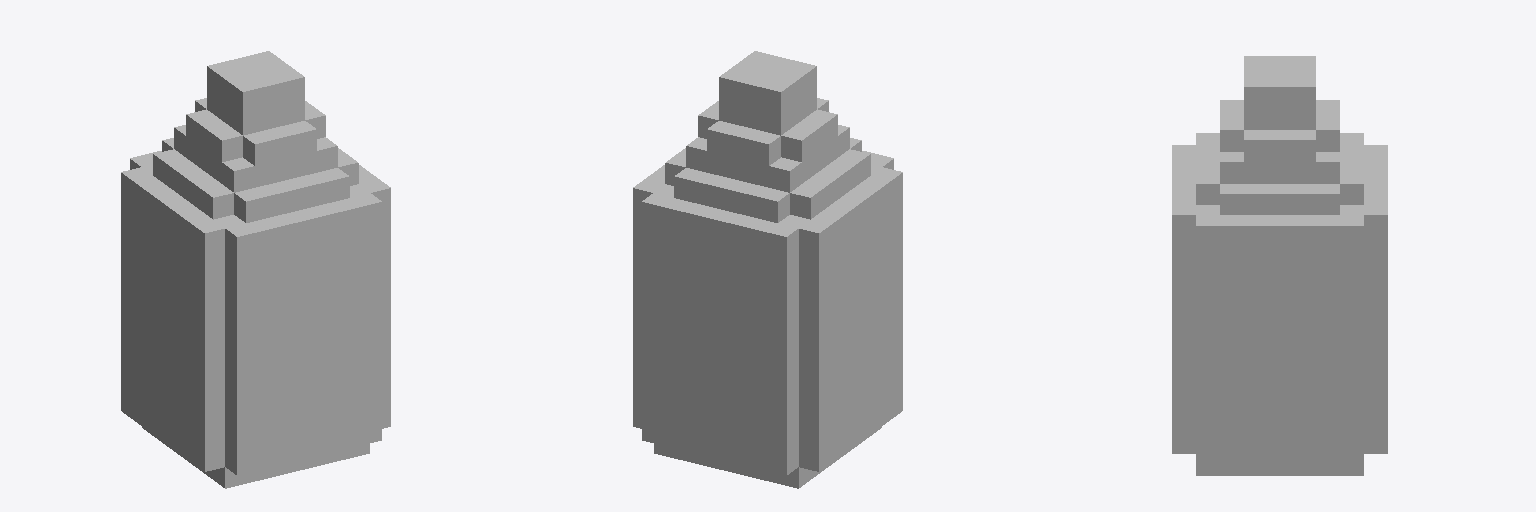
File: Bunker - Free Sample-78-Bottle_Water-8.obj
The picture shows the model from 3 angles: view 1: azimuth 30°, elevation 25°; view 2: azimuth 150°, elevation 25°; view 3: azimuth 270°, elevation 25°; orthographic projection.
Visible parts, largest first — view 1: Bottle_Water-8; view 2: Bottle_Water-8; view 3: Bottle_Water-8.
Boxes of the visible parts, x1=… form: Bottle_Water-8: x1=121, y1=51, x2=390, y2=488; Bottle_Water-8: x1=633, y1=51, x2=902, y2=488; Bottle_Water-8: x1=1172, y1=56, x2=1387, y2=475.
Bounding box in the file's own units: 0.18 × 0.34 × 0.18.